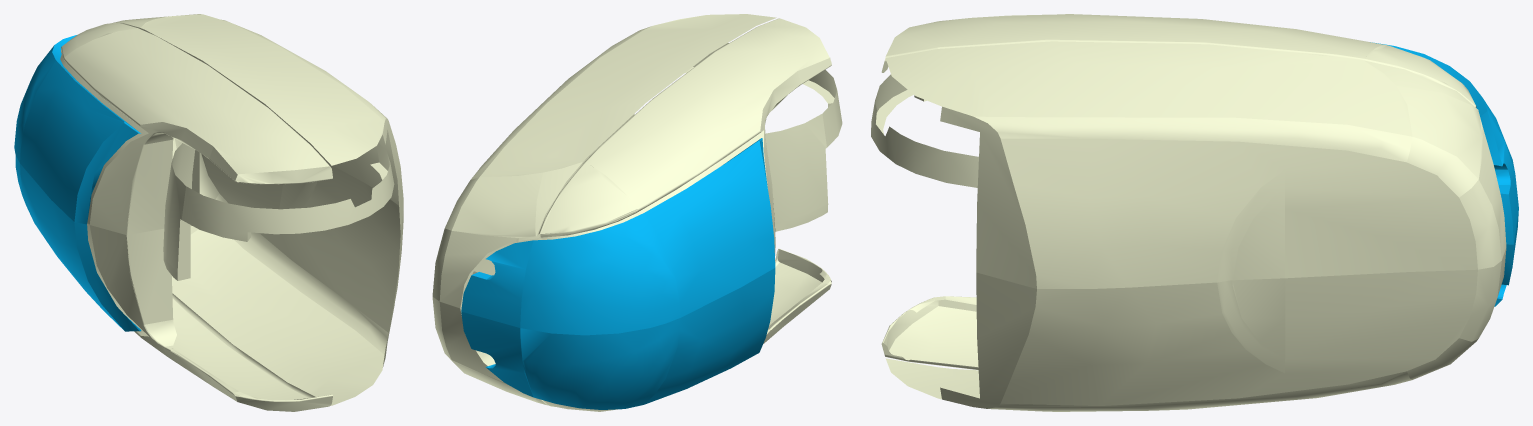
Rendered from finger_distal.dae.
The picture shows the model from 3 angles, left to right: view 1: azimuth 30°, elevation 25°; view 2: azimuth 150°, elevation 25°; view 3: azimuth 270°, elevation 25°; orthographic projection. The views are drawn at different scales.
Parts seen in each view (by area): view 1: ShapeIndexedFaceS_018-Node001; view 2: ShapeIndexedFaceS_018-Node001; view 3: ShapeIndexedFaceS_018-Node001.
Part boxes in pixels (box(x1,y1,x2,y2)): ShapeIndexedFaceS_018-Node001: box(14, 14, 403, 411); ShapeIndexedFaceS_018-Node001: box(432, 14, 842, 411); ShapeIndexedFaceS_018-Node001: box(871, 14, 1518, 411).
Size of the model in its own units: 0.0292 by 0.0503 by 0.0286.
